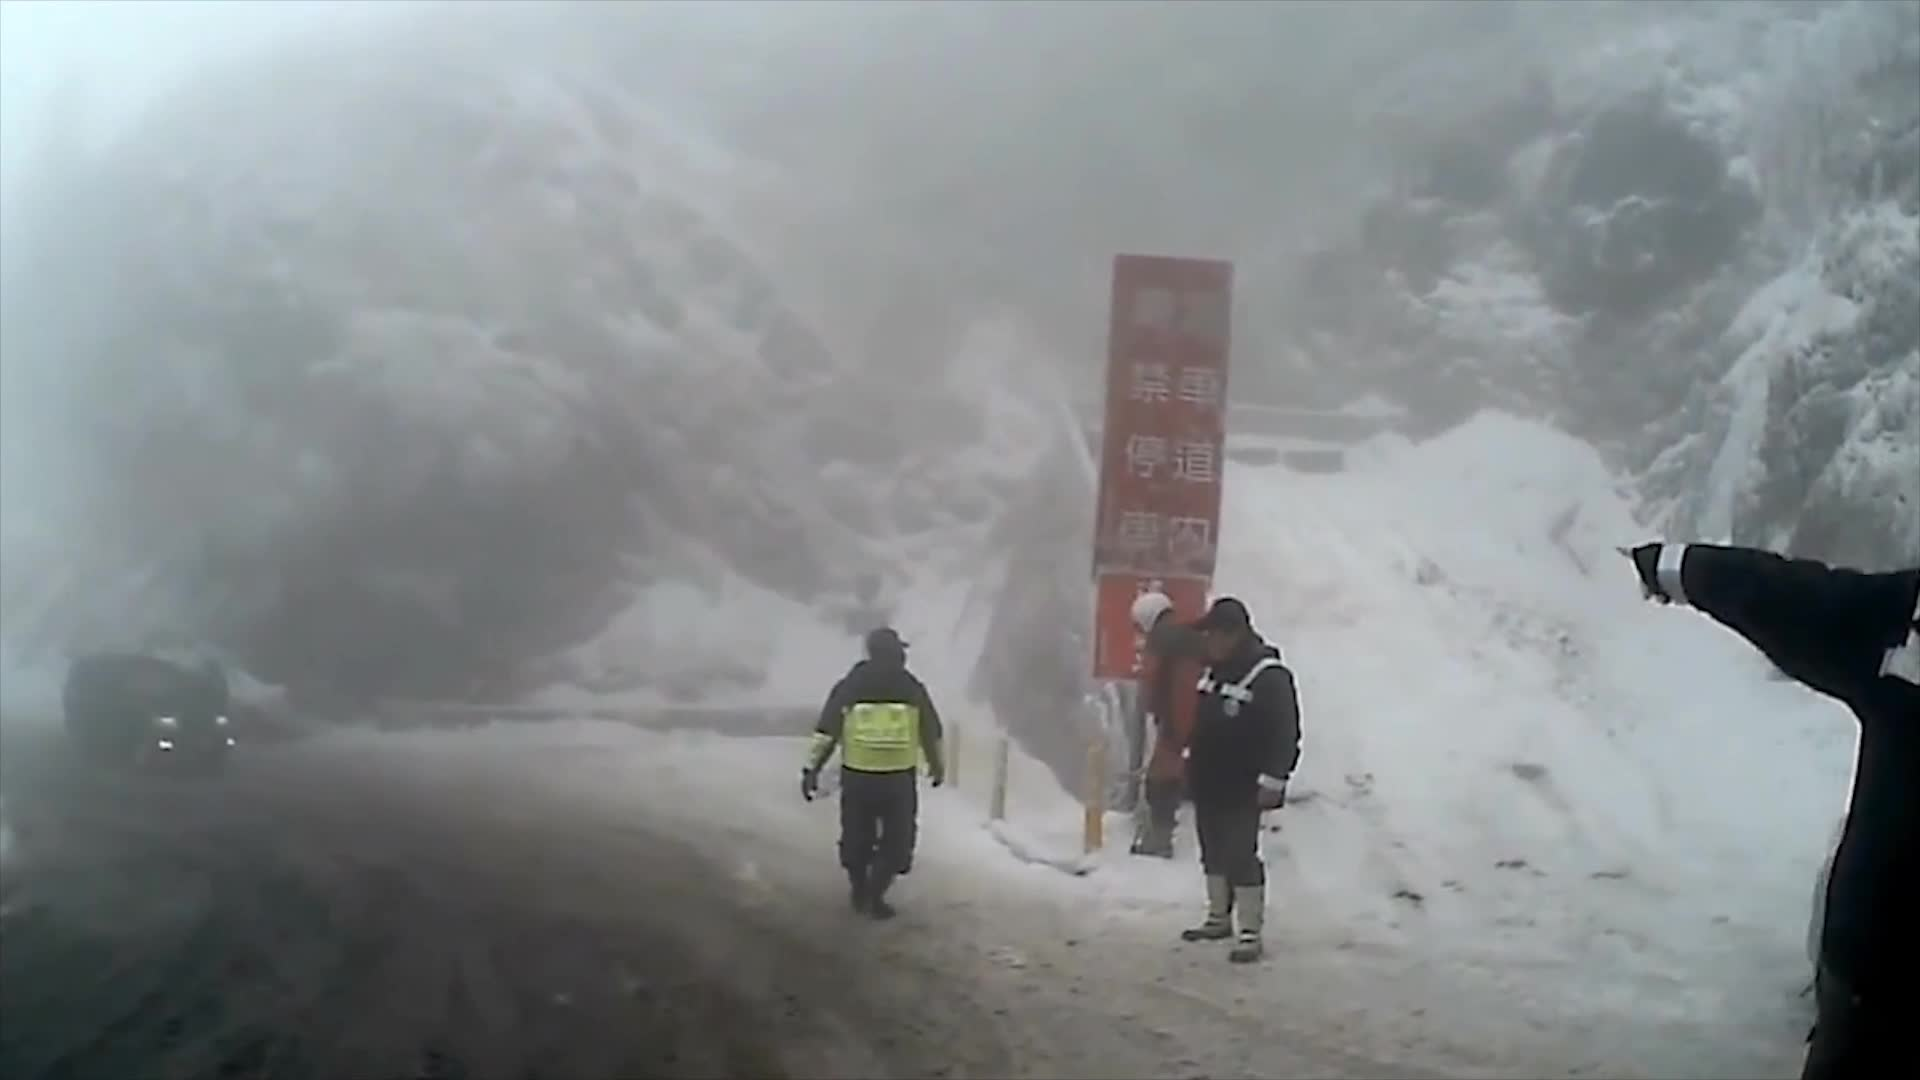pedestrian: (1575, 416, 1919, 1076), (1187, 598, 1306, 971), (802, 627, 947, 919)
vehicle: (62, 647, 235, 774)
